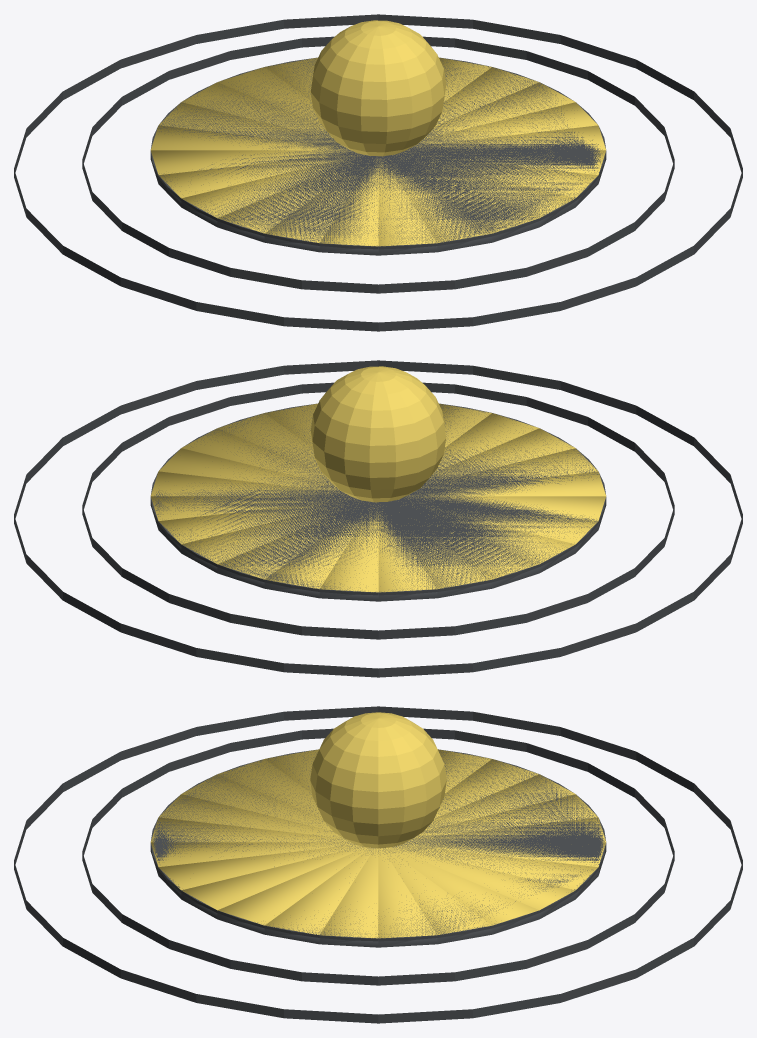
Rendered from macro_alchemical_shrine.glb.
3 views of the same model, one above another, from view 1: azimuth 30°, elevation 25°; view 2: azimuth 150°, elevation 25°; view 3: azimuth 270°, elevation 25° (orthographic).
Parts seen in each view (by area): view 1: Macro_Alchemical_Shrine, Shrine_Center_Infill, Shrine_Crucible; view 2: Macro_Alchemical_Shrine, Shrine_Center_Infill, Shrine_Crucible; view 3: Macro_Alchemical_Shrine, Shrine_Center_Infill, Shrine_Crucible.
Part boxes in pixels (x1,y1,x2,y2): Macro_Alchemical_Shrine: (14,14,742,331); Shrine_Center_Infill: (150,57,606,249); Shrine_Crucible: (310,20,446,156); Macro_Alchemical_Shrine: (14,360,742,677); Shrine_Center_Infill: (150,403,606,595); Shrine_Crucible: (310,366,446,502); Macro_Alchemical_Shrine: (14,706,742,1023); Shrine_Center_Infill: (150,750,606,941); Shrine_Crucible: (310,712,446,848).
Size of the model in its own units: 4.8 by 1.1 by 4.8.
